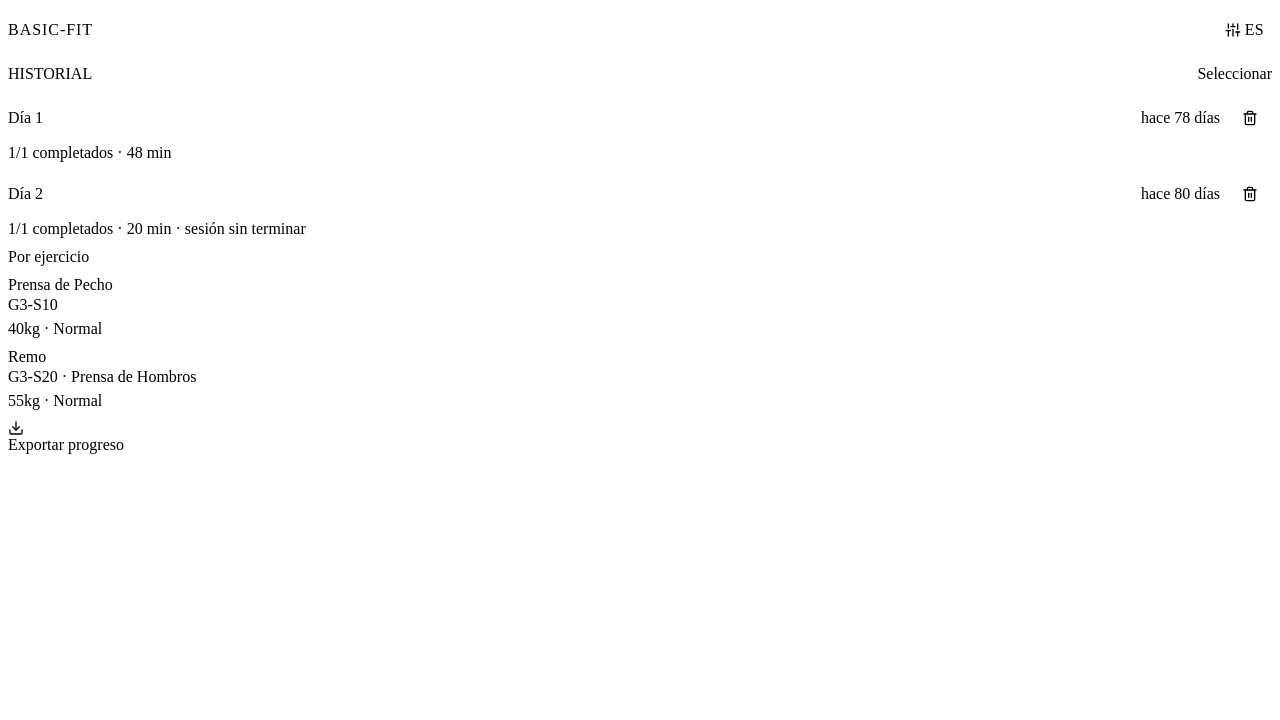
Test: HistoryScreen — per-entry delete (AC17, AC19, AC23) › confirms a single delete with the session identity (AC19)
Expected: the text "Día 1" is shown, 8,109 -> 43,126
What coordinates should you click on to do the following:
click the button named "borrar sesión día 1"
I would click on:
 (1250, 118)
Its box is 1228,96 -> 1272,140.
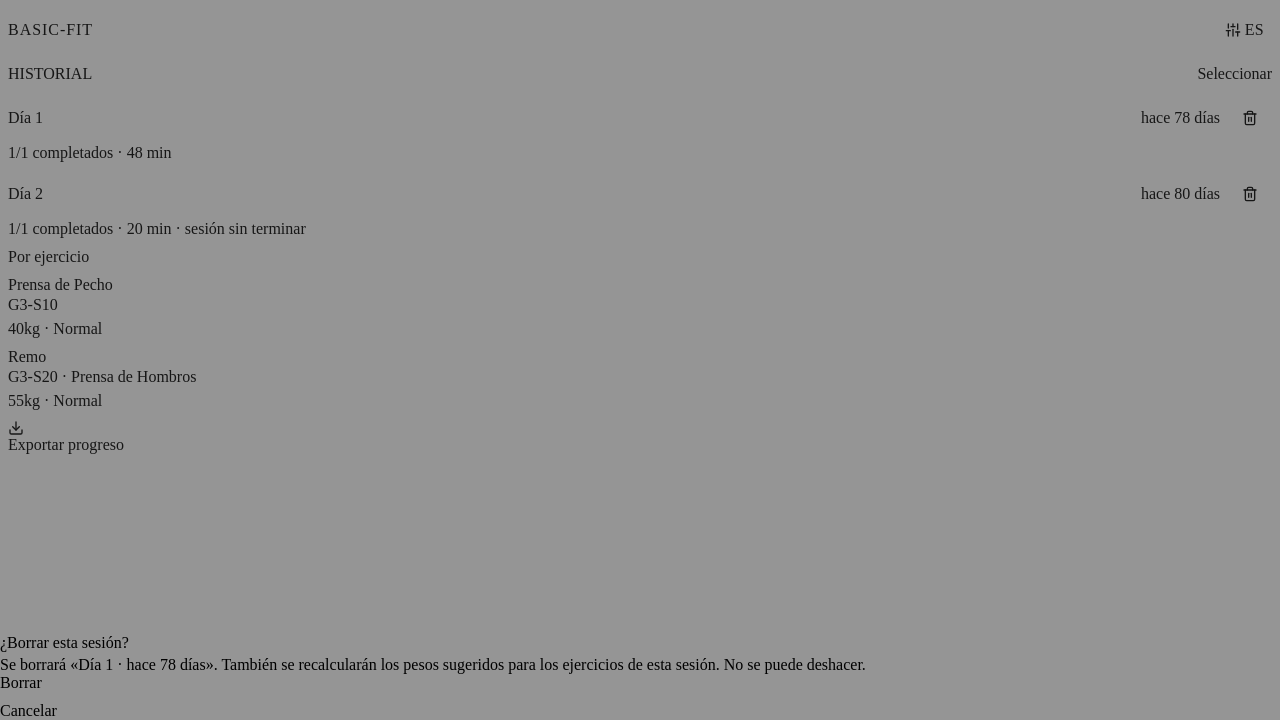
Expected: the heading "¿Borrar esta sesión?" is shown, 0,634 -> 129,651
Expected: the text "pesos sugeridos" is shown, 0,656 -> 866,673
